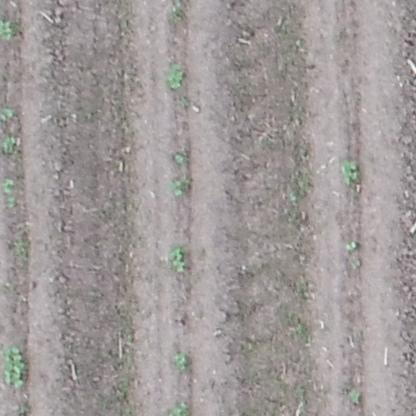vc: (2, 345, 32, 393), (165, 243, 194, 273), (164, 58, 185, 91), (340, 157, 362, 185), (3, 175, 21, 207), (173, 349, 190, 375), (341, 234, 361, 253), (347, 385, 364, 407), (170, 179, 184, 197), (1, 106, 16, 121), (3, 136, 15, 154), (172, 151, 186, 165)
